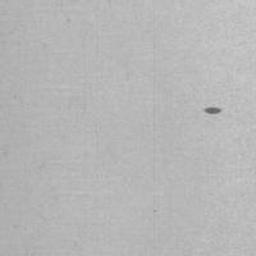Inclusion: (204, 107, 222, 115)
